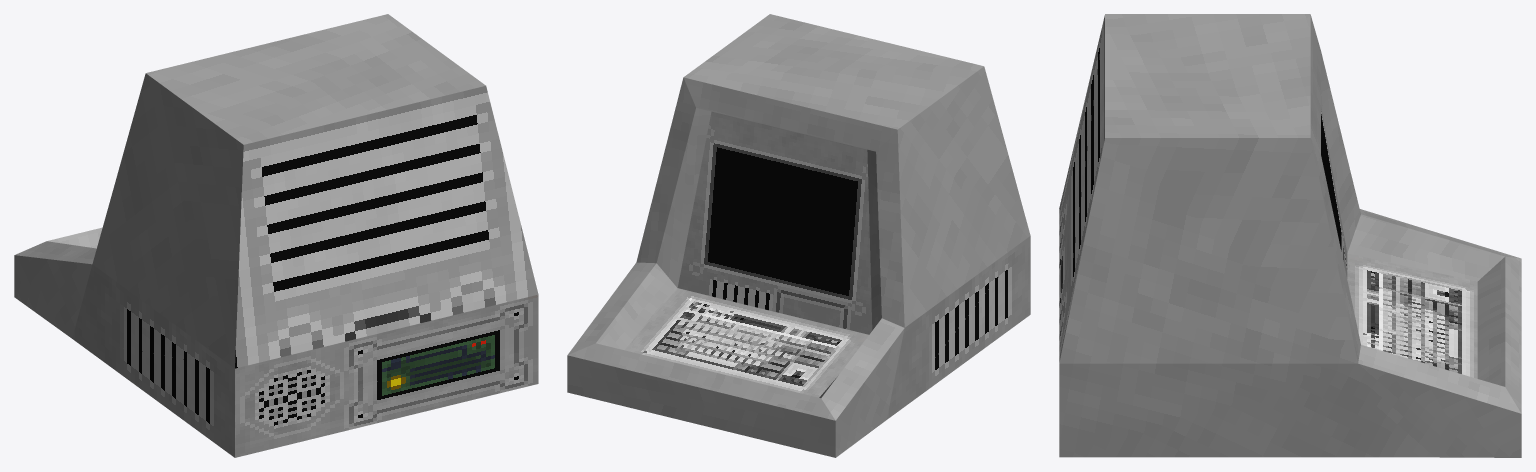
The model's file is portable terminal.gltf.
3 renders of one model, left to right at view 1: azimuth 30°, elevation 25°; view 2: azimuth 150°, elevation 25°; view 3: azimuth 270°, elevation 25°, orthographic. The views are drawn at different scales.
Visible parts, largest first — view 1: Cube; view 2: Cube; view 3: Cube.
Boxes of the visible parts, <box> form: Cube: <box>14,14,538,457</box>; Cube: <box>567,14,1030,457</box>; Cube: <box>1059,14,1521,457</box>.
Size of the model in its own units: 0.2384 by 0.2179 by 0.3.
1 material, 1 textured.
